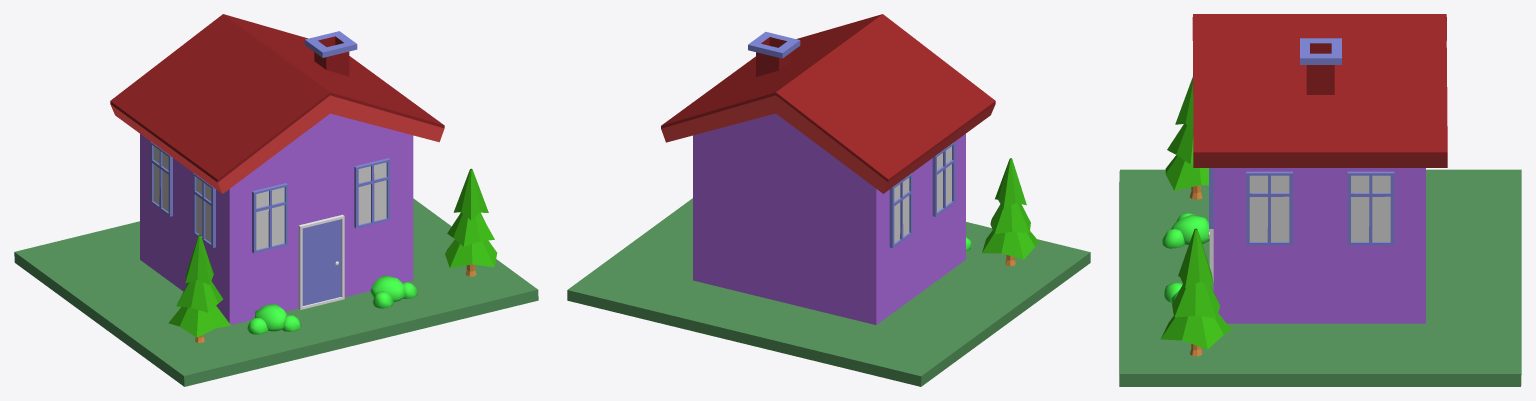
File: house-3.fbx
The picture shows the model from 3 angles, left to right: view 1: azimuth 30°, elevation 25°; view 2: azimuth 150°, elevation 25°; view 3: azimuth 270°, elevation 25°; orthographic projection. The views are drawn at different scales.
Visible parts, largest first — view 1: Plane, Cube, Cube.001, Cube.005, christmas tree, christmas tree.001, big window 1.001, big window 1, Cube.002, big window 1.004, big window 1.005, Icosphere.005 (+1 smaller); view 2: Cube, Plane, Cube.001, christmas tree.001, Cube.002, big window 1.004, big window 1.005; view 3: Plane, Cube.001, Cube, christmas tree, big window 1.003, big window 1.002, christmas tree.001, Cube.002, Icosphere, Icosphere.002.
Boxes of the visible parts, x1,y1,x2,y2 form: Plane: [14, 198, 538, 386]; Cube: [140, 113, 413, 324]; Cube.001: [110, 14, 444, 193]; Cube.005: [298, 214, 344, 309]; christmas tree: [445, 168, 497, 276]; christmas tree.001: [168, 235, 230, 342]; big window 1.001: [354, 158, 390, 228]; big window 1: [252, 183, 287, 253]; Cube.002: [304, 31, 357, 76]; big window 1.004: [150, 141, 172, 216]; big window 1.005: [193, 173, 215, 247]; Icosphere.005: [370, 275, 406, 301]; Cube: [693, 113, 965, 324]; Plane: [567, 198, 1090, 386]; Cube.001: [661, 14, 995, 193]; christmas tree.001: [982, 158, 1039, 266]; Cube.002: [748, 31, 800, 76]; big window 1.004: [889, 173, 912, 248]; big window 1.005: [932, 142, 955, 216]; Plane: [1119, 169, 1521, 386]; Cube.001: [1192, 14, 1447, 167]; Cube: [1213, 168, 1425, 323]; christmas tree: [1161, 228, 1231, 356]; big window 1.003: [1347, 171, 1394, 245]; big window 1.002: [1246, 171, 1292, 245]; christmas tree.001: [1165, 77, 1208, 199]; Cube.002: [1300, 38, 1341, 94]; Icosphere: [1171, 214, 1209, 244]; Icosphere.002: [1162, 228, 1184, 248].
Bounding box in the file's own units: 2949 × 1818 × 2448.
